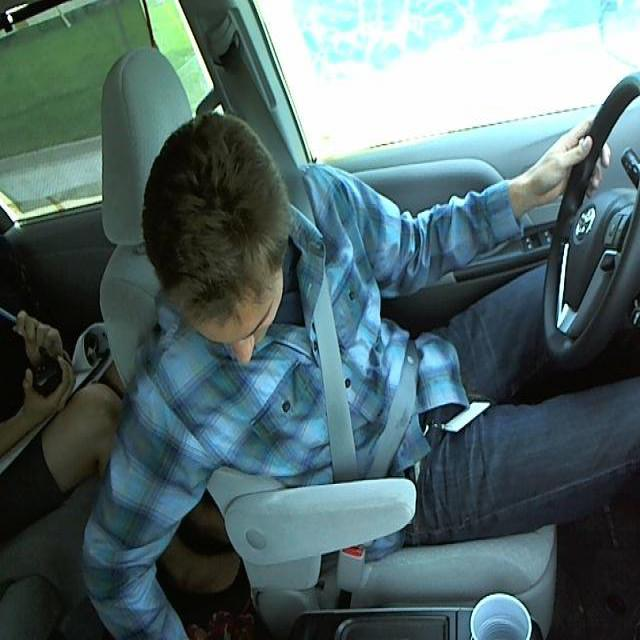seatbelt: (306, 284, 429, 469)
